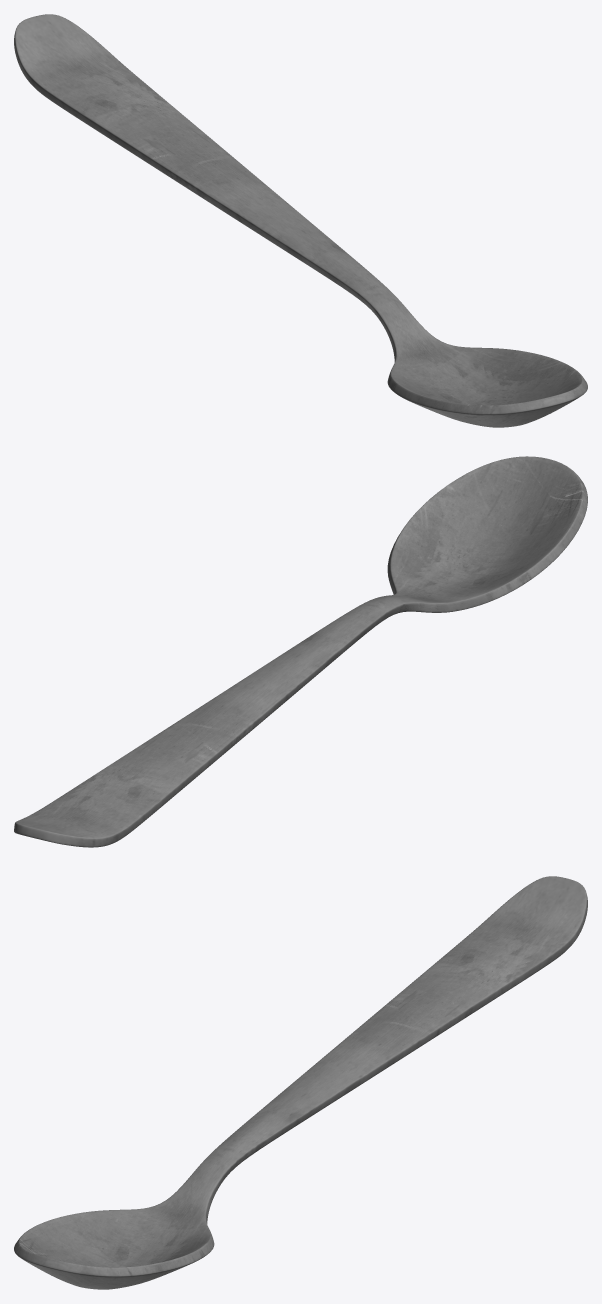
The model's file is tea_spoon.glb.
The picture shows the model from 3 angles, top to bottom: view 1: azimuth 30°, elevation 25°; view 2: azimuth 150°, elevation 25°; view 3: azimuth 330°, elevation 25°; orthographic projection.
Visible parts, largest first — view 1: Plane; view 2: Plane; view 3: Plane.
Part boxes in pixels (x1,y1,x2,y2): Plane: (14, 14, 587, 427); Plane: (14, 456, 587, 847); Plane: (14, 876, 587, 1289).
Size of the model in its own units: 0.0358 by 0.0177 by 0.2167.
1 material, 1 textured.
